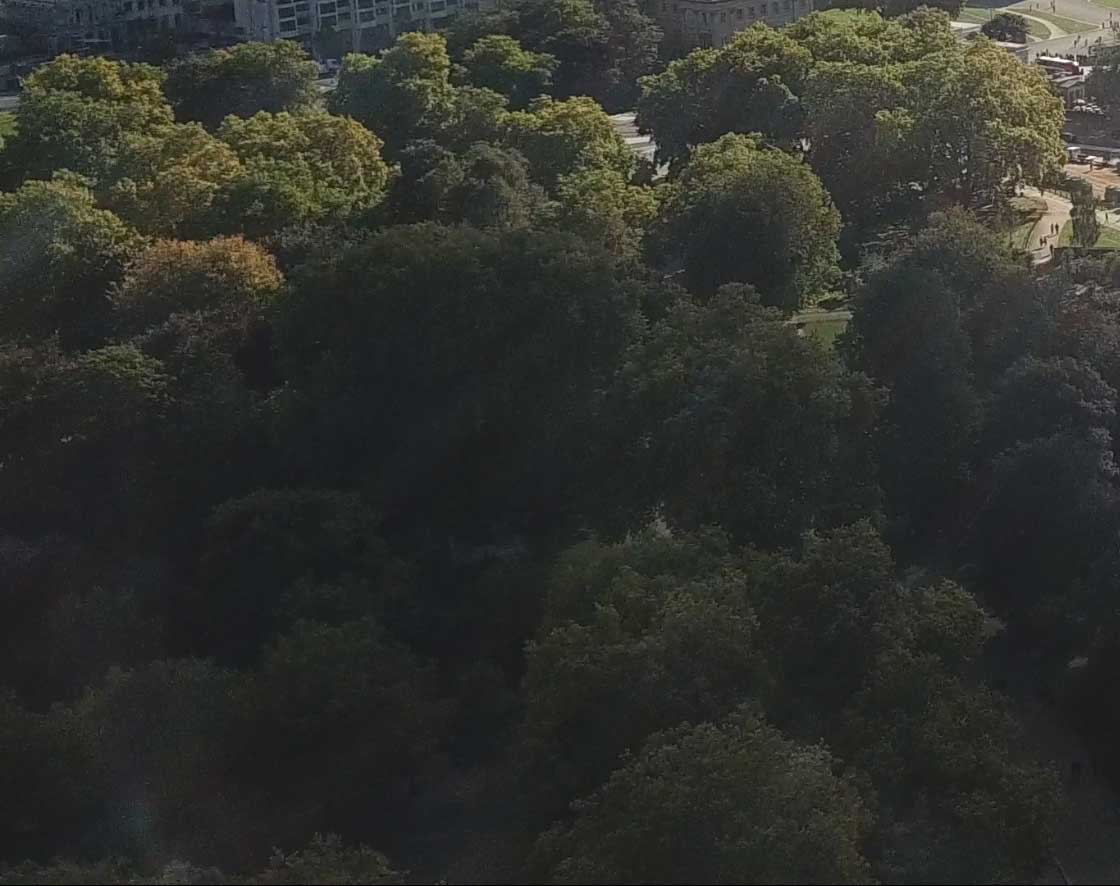trees: (28, 85, 1106, 867)
